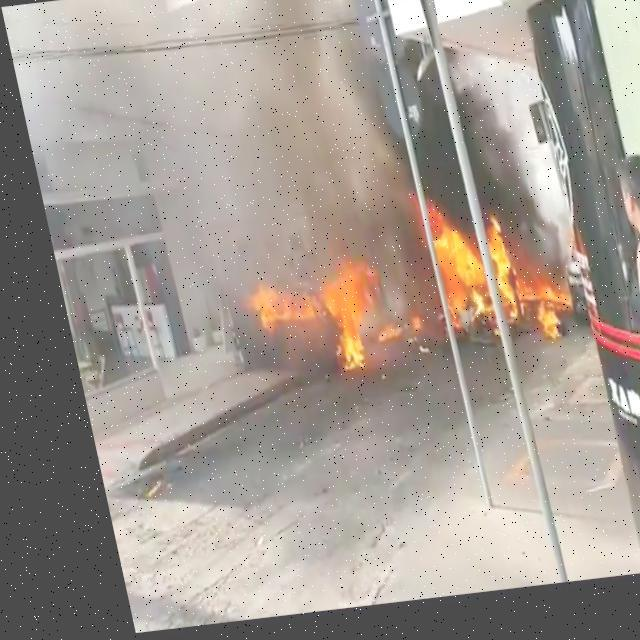Fire: (412, 205, 557, 377), (232, 260, 400, 384)
